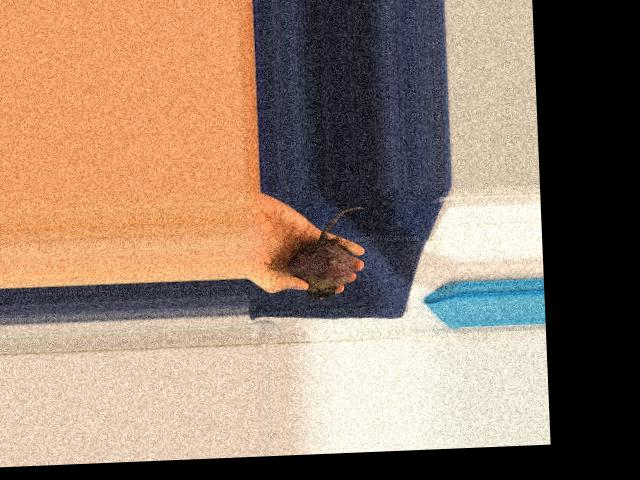beet: (287, 206, 369, 300)
